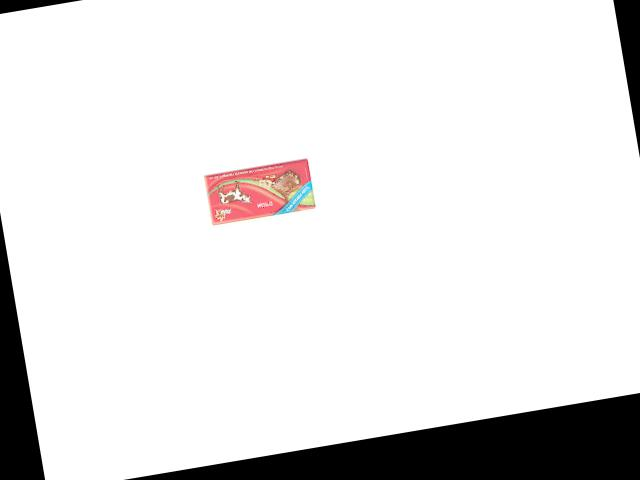chocolate: (199, 159, 315, 226)
